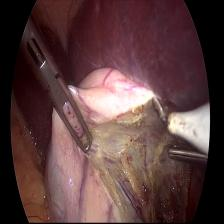Grasper: (17, 12, 104, 176), (167, 144, 208, 170)
Hook: (143, 87, 211, 157)
